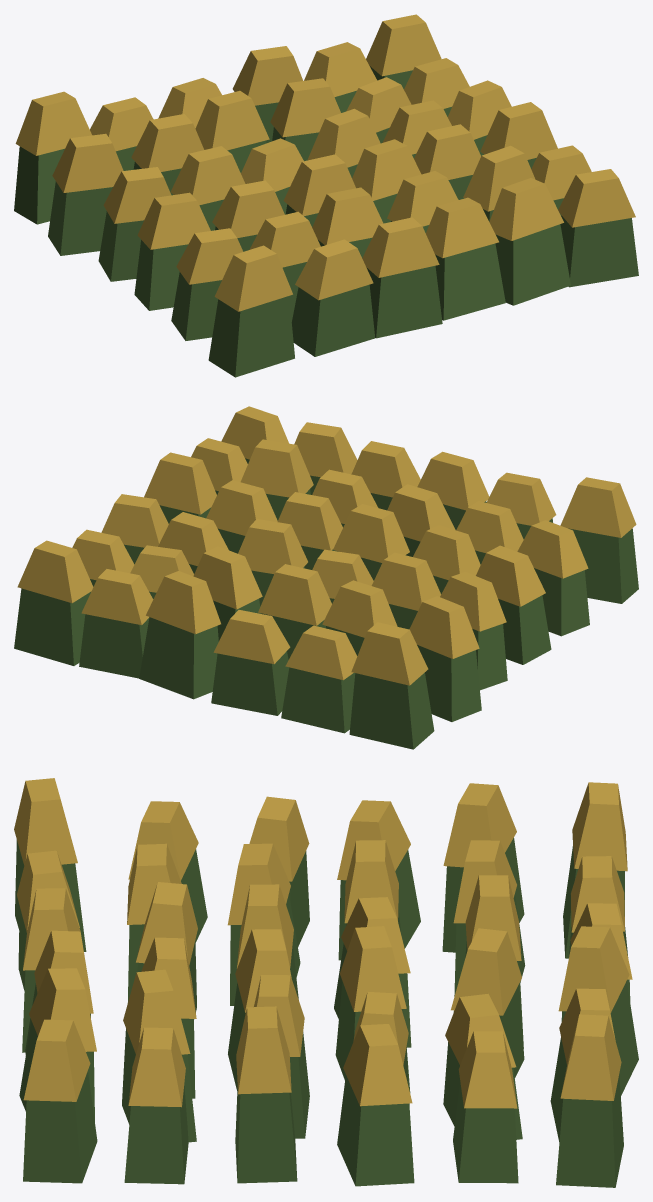
The model's file is wheat_crop.glb.
3 renders of one model, top to bottom at view 1: azimuth 30°, elevation 25°; view 2: azimuth 150°, elevation 25°; view 3: azimuth 270°, elevation 25°, orthographic. The views are drawn at different scales.
Visible parts, largest first — view 1: wheat_crop_lod0; view 2: wheat_crop_lod0; view 3: wheat_crop_lod0.
Part boxes in pixels (<box>): wheat_crop_lod0: <box>14,14,638,377</box>; wheat_crop_lod0: <box>14,406,638,749</box>; wheat_crop_lod0: <box>14,778,638,1187</box>.
Size of what is drawn, in the model's own units: 4.1 by 1.01 by 3.89.
